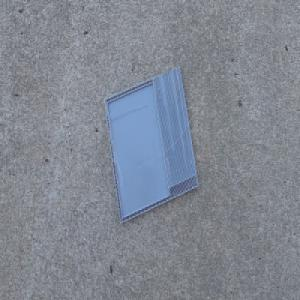PlasticPart: (103, 66, 198, 225)
